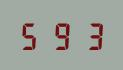five: (18, 20, 45, 50)
nine: (47, 20, 74, 50)
three: (75, 20, 102, 50)
